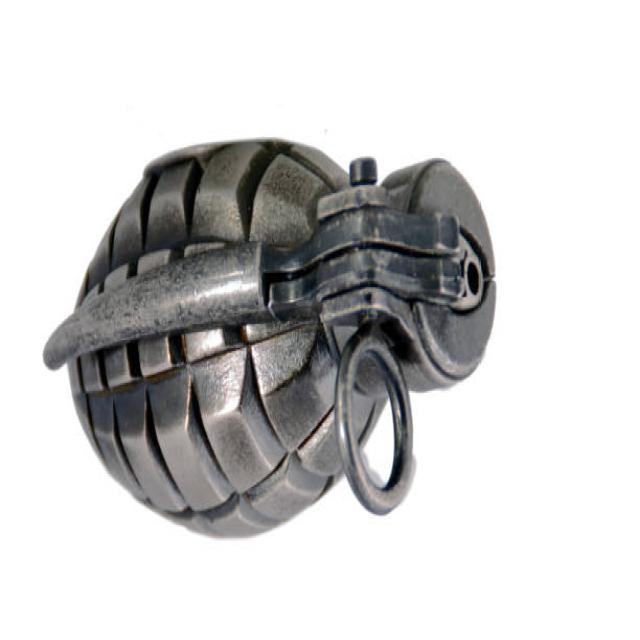grenade: (32, 120, 501, 549)
